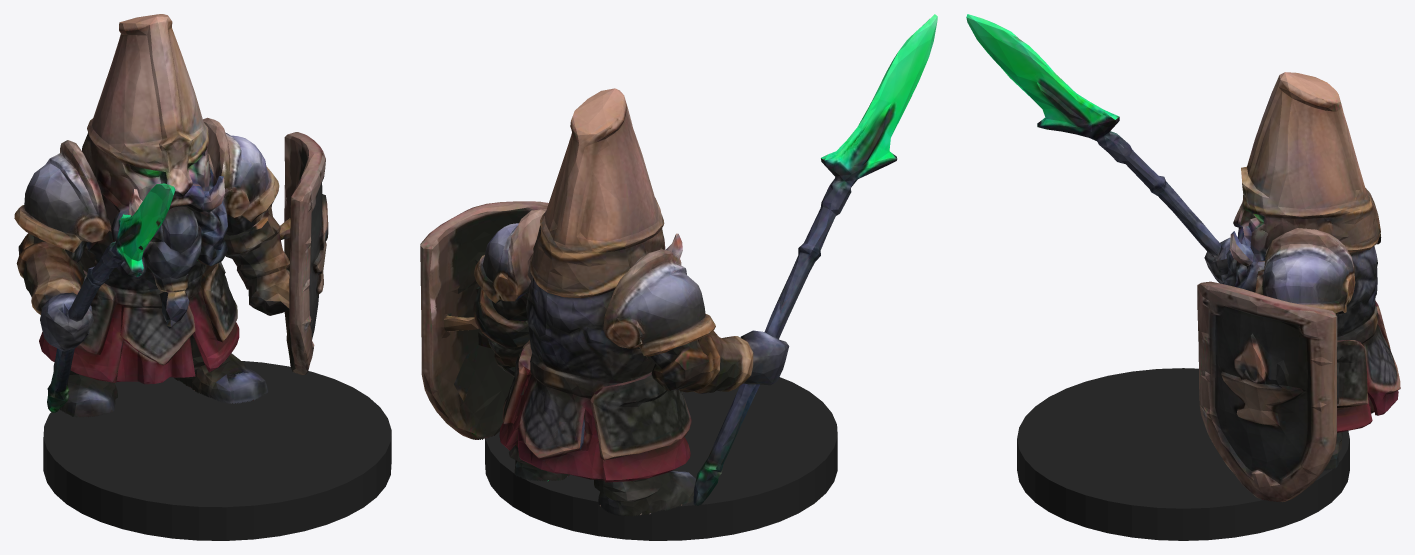
The model's file is hoh-infernal-cohort.glb.
The picture shows the model from 3 angles, left to right: view 1: azimuth 30°, elevation 25°; view 2: azimuth 150°, elevation 25°; view 3: azimuth 270°, elevation 25°; orthographic projection. The views are drawn at different scales.
Parts seen in each view (by area): view 1: figure, base; view 2: figure, base; view 3: figure, base.
Part boxes in pixels (x1,y1,x2,y2): figure: (14,14,328,417); base: (43,361,391,540); figure: (420,14,937,516); base: (485,377,837,540); figure: (966,14,1400,502); base: (1017,368,1349,540).
Bounding box in the file's own units: 1.2 × 1.47 × 1.46.
2 materials, 1 textured.
